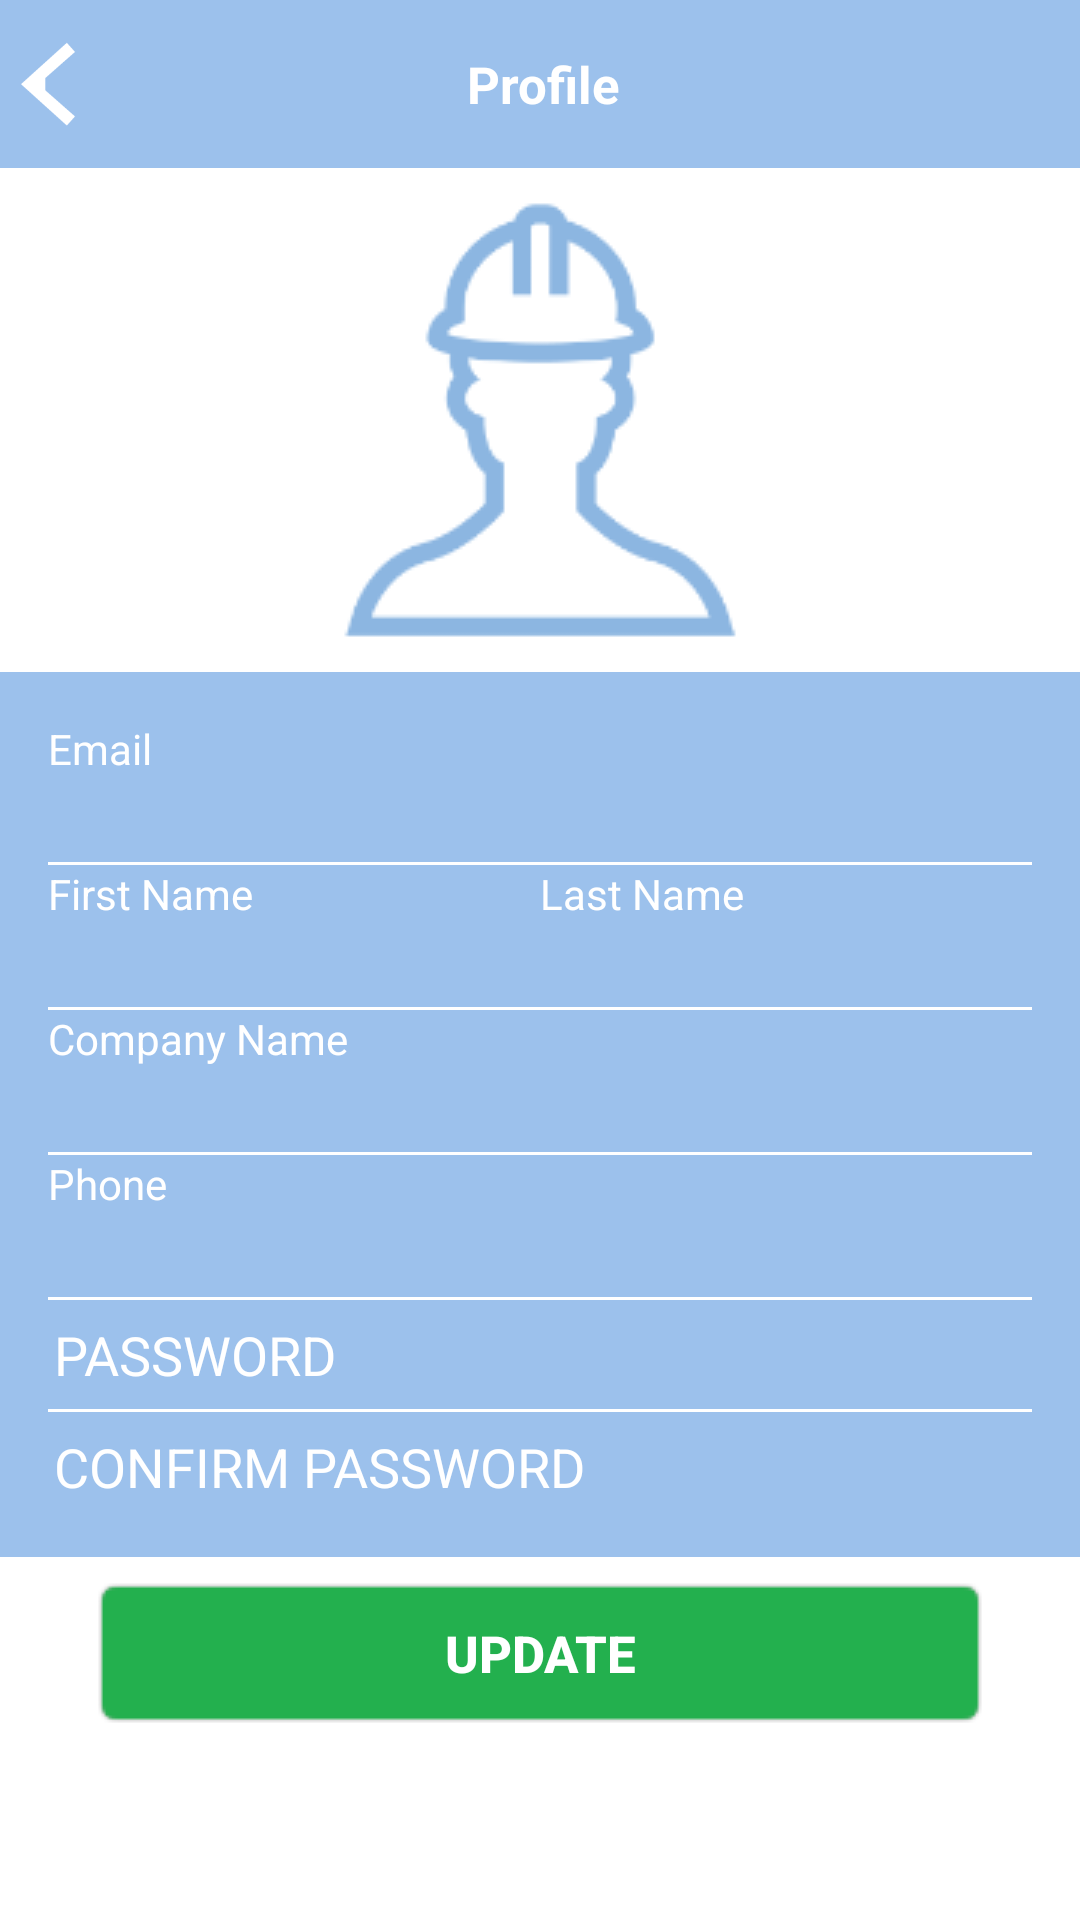

Screen size 1080*1920. Icon name, then its center in pixels as (x,y):
back: (48,84)
